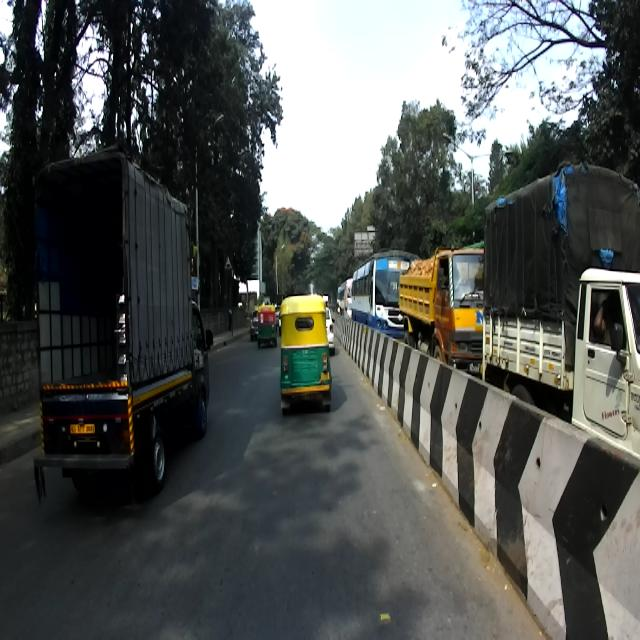auto ahead at: (280, 294, 332, 415)
truck ahead at: (34, 152, 208, 505)
